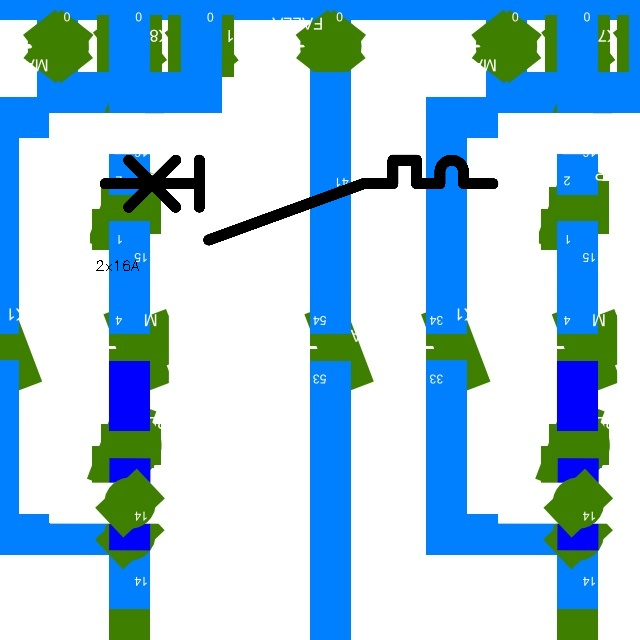interruptor_termomagnetico: (95, 150, 503, 250)
